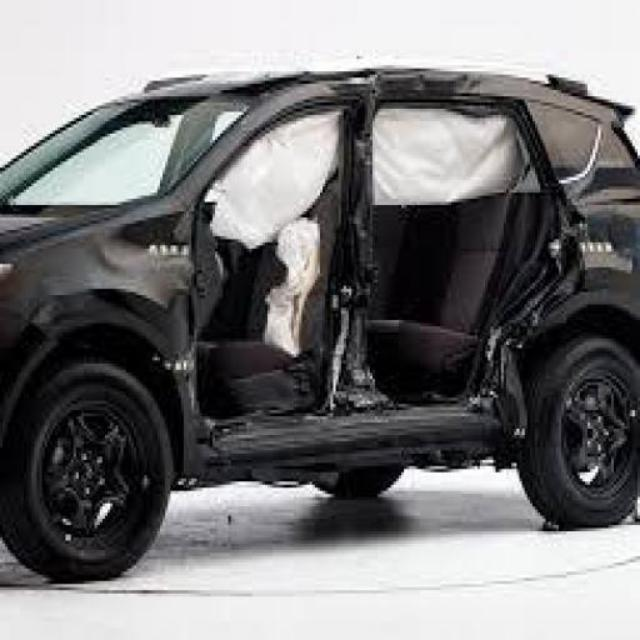no part: (90, 66, 630, 481)
